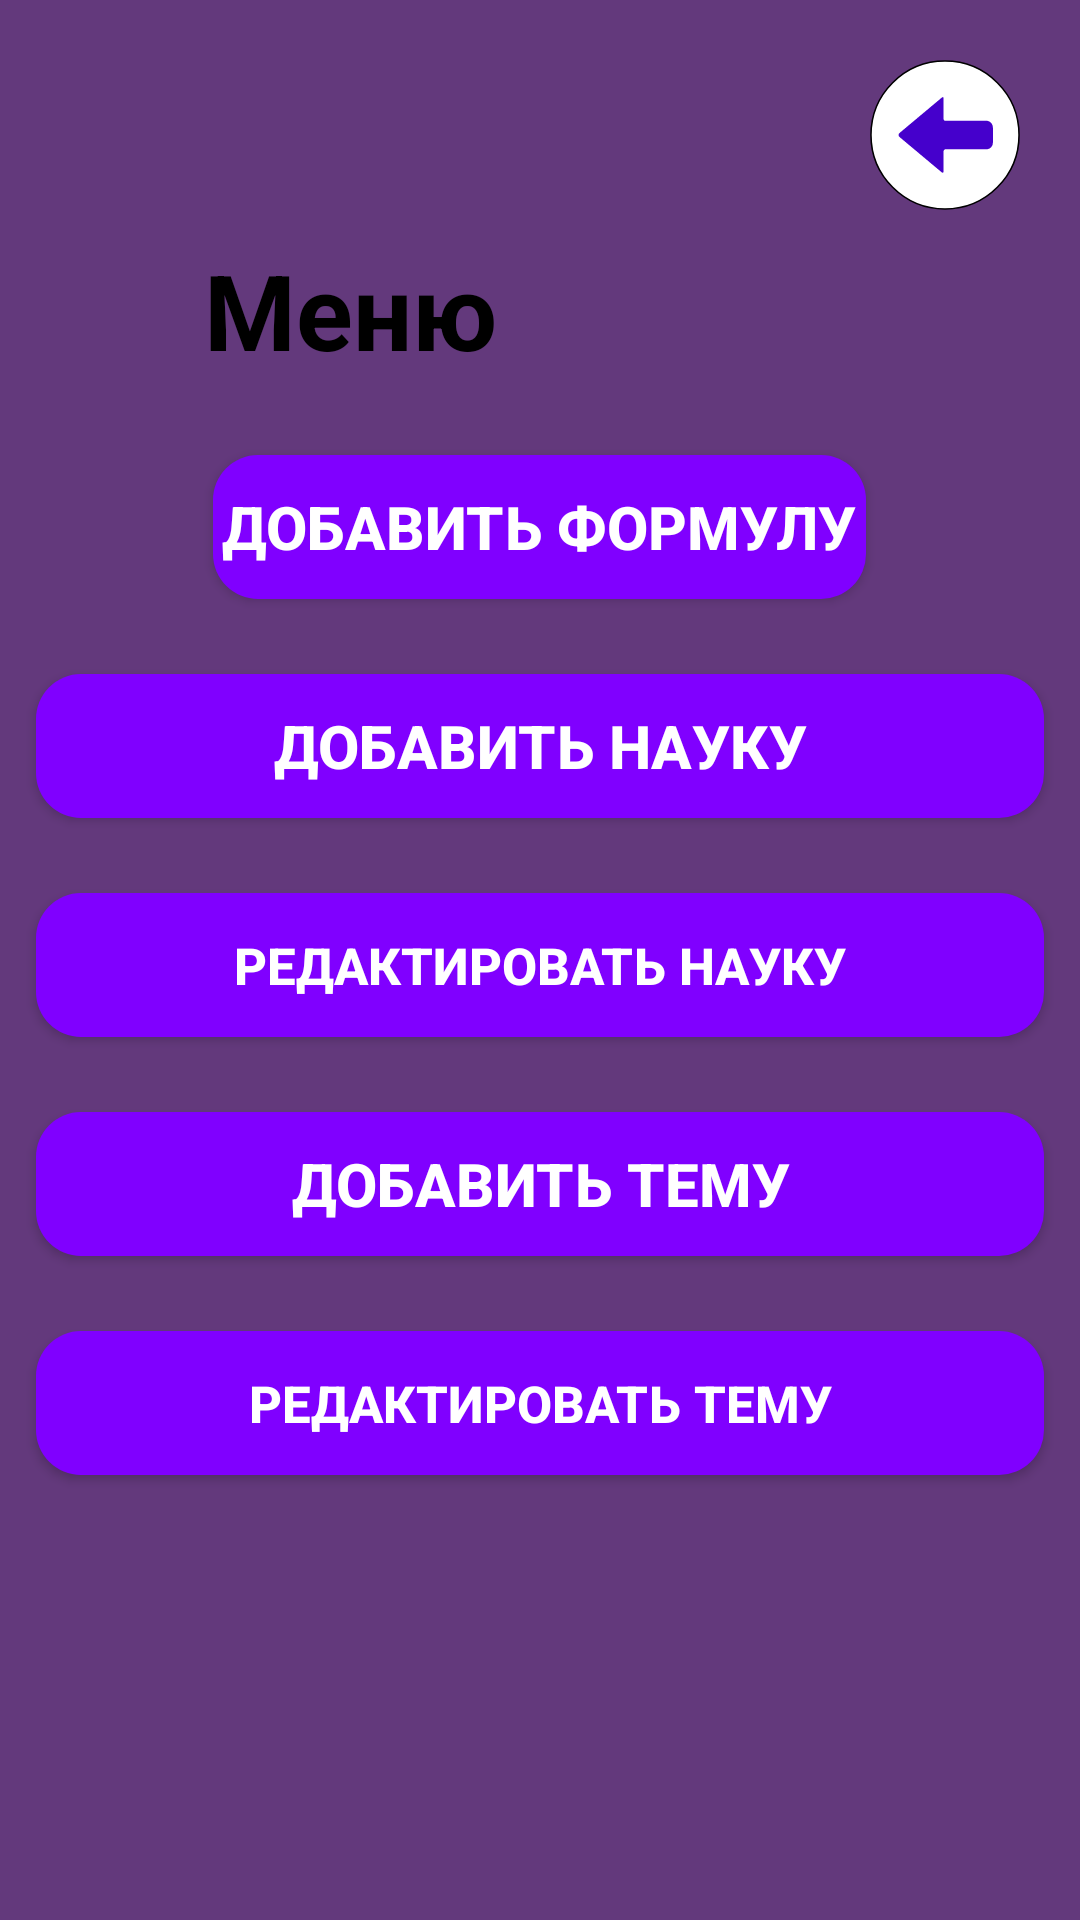

Locate icon controls on the screen. Image size 1080w x 1920h, boxes as (x1, y1, x2, y2).
back: (870, 60, 1020, 210)
